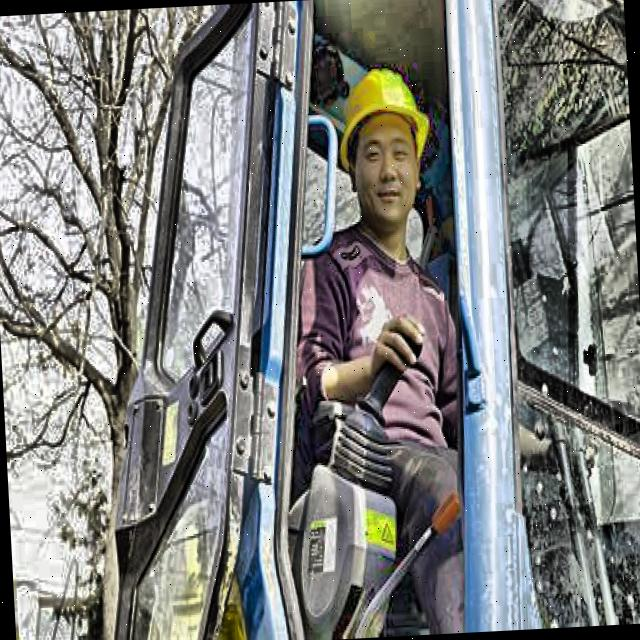helmet: (334, 45, 439, 240)
